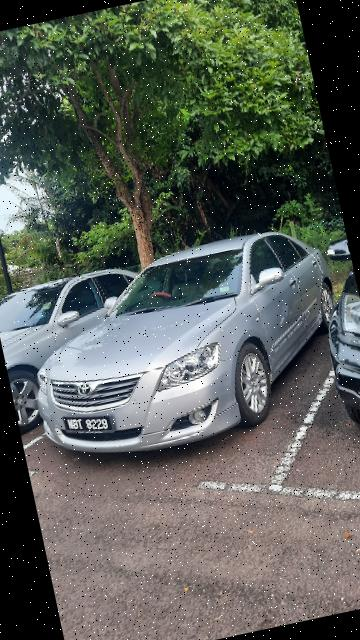License_Plate: (59, 404, 118, 450)
car: (16, 217, 360, 477), (1, 257, 185, 437)
